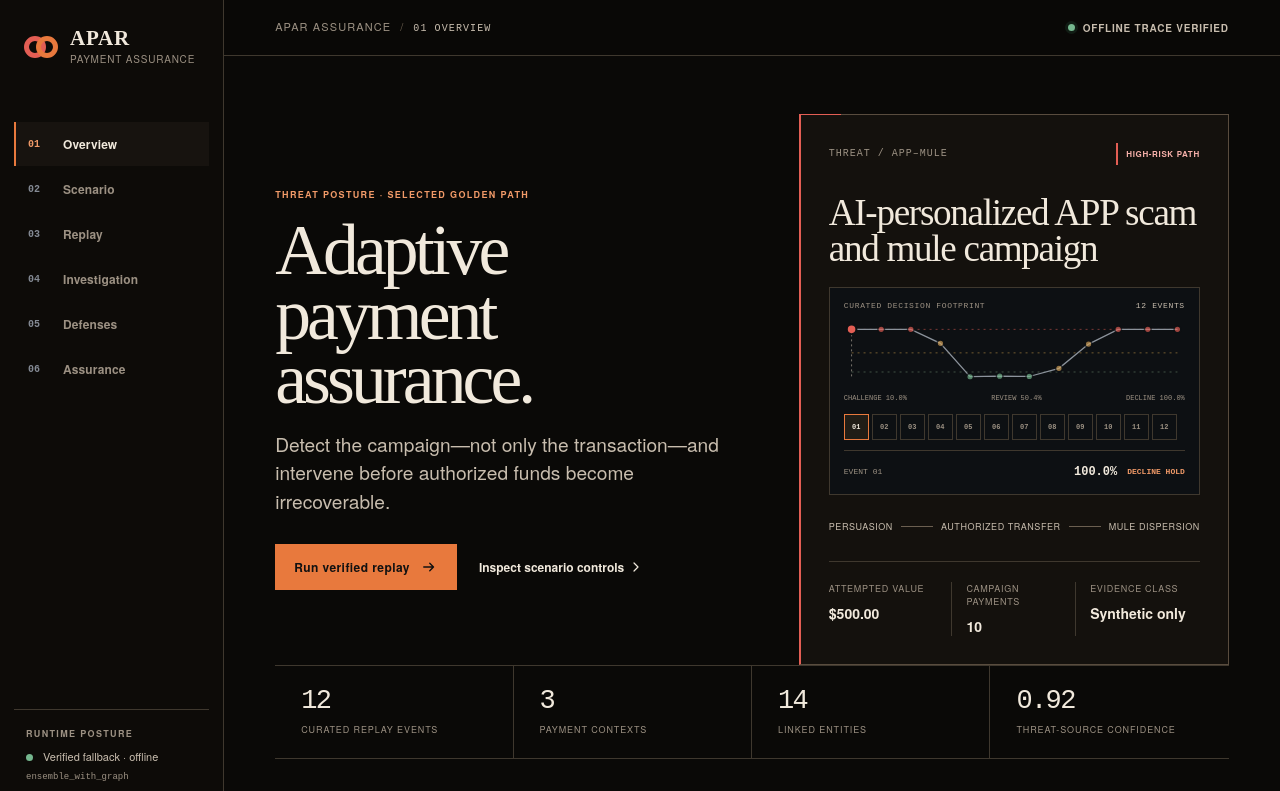
Scenario: native route boundary › binds the investigation first alert to a curated APP replay record
This screenshot has width=1280, height=791.
Click the link "04 Investigation" at (83, 279), box [28,270,138,288]
(page scrolled)
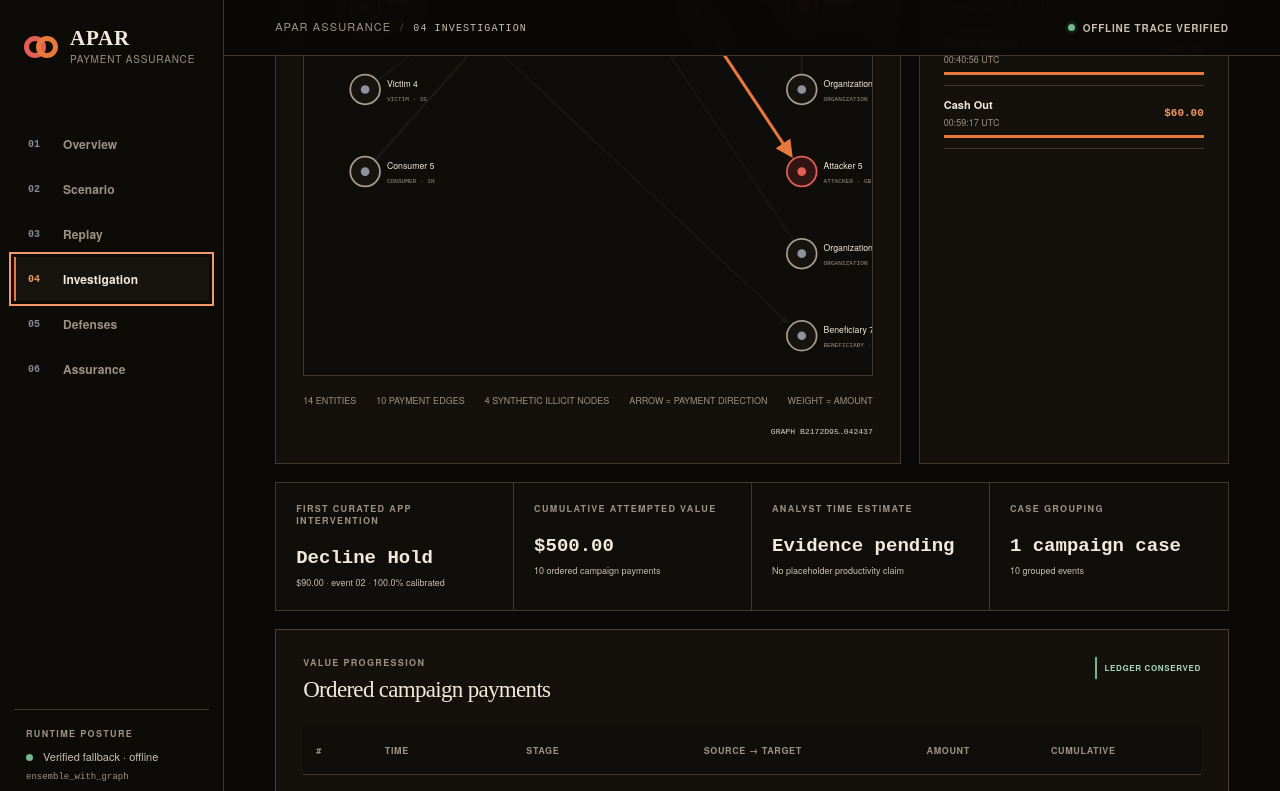
Expected: the text "First curated APP intervention" is shown, [296,502,412,527]
Expected: the text "$90.00 · event 02 · 100.0% calibrated" is shown, [296,576,445,589]
Expected: the text "Arrow = payment direction" is shown, [629,394,768,407]
